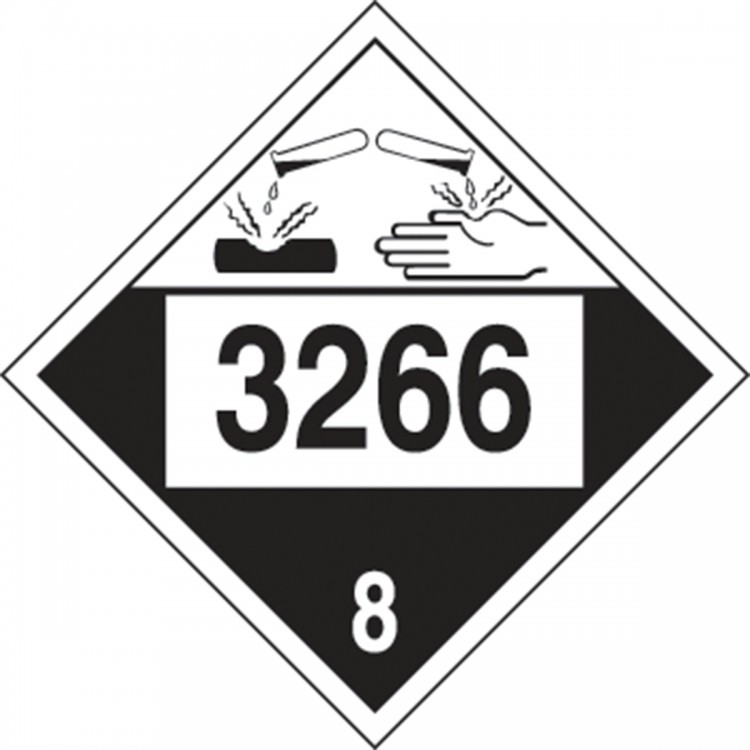Corrosive: (1, 1, 750, 748)
